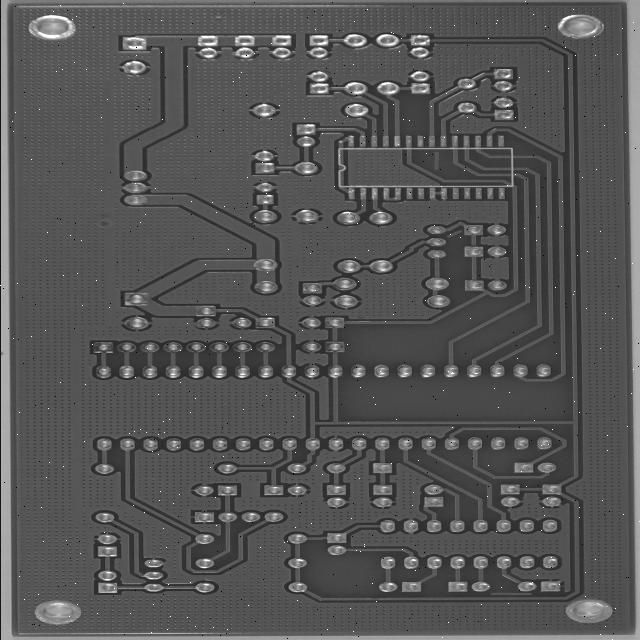spurious_copper: (424, 150, 450, 173), (487, 589, 536, 599), (444, 226, 464, 241)
